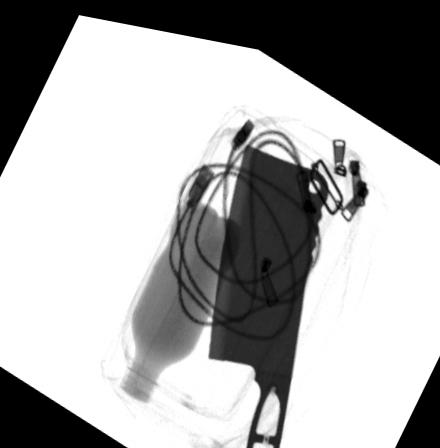Knife: (206, 133, 330, 448)
